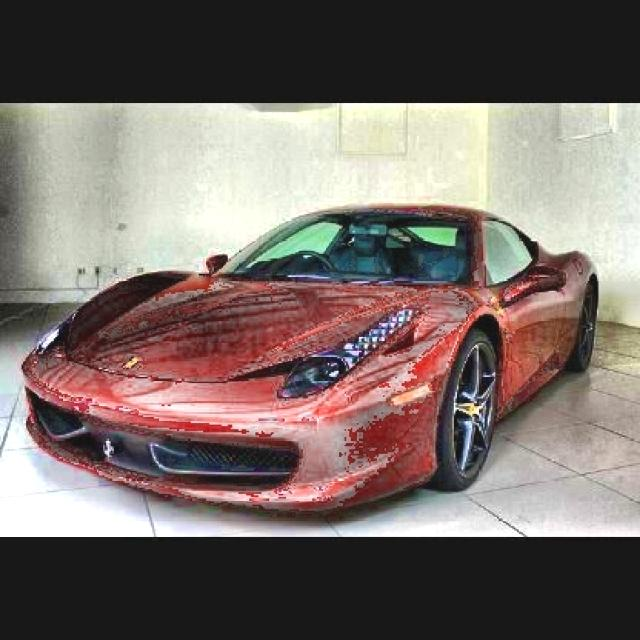maroon: (15, 198, 597, 494)
